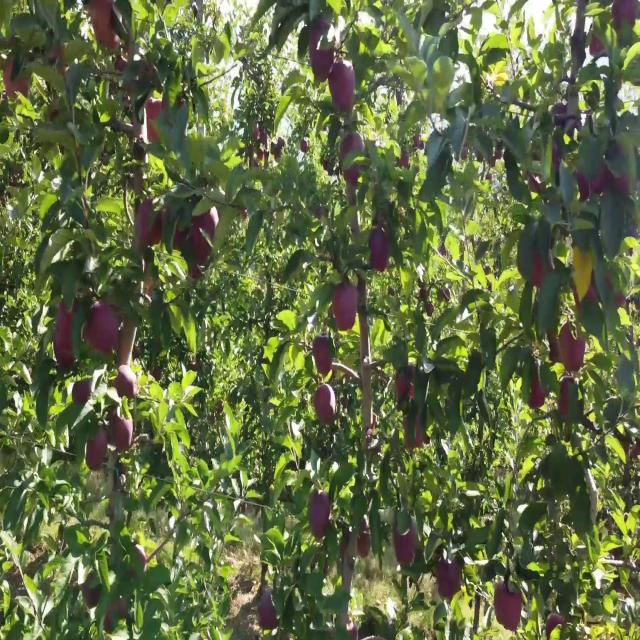apple: (52, 298, 79, 372), (524, 142, 561, 196), (56, 298, 81, 370), (308, 21, 336, 85), (88, 1, 123, 48), (88, 305, 118, 357), (136, 199, 167, 249), (328, 63, 356, 114), (496, 583, 524, 633), (332, 284, 359, 334), (96, 7, 126, 52), (340, 135, 365, 188), (192, 213, 218, 263), (560, 327, 587, 375), (308, 490, 332, 540), (4, 56, 30, 101), (436, 561, 463, 603), (368, 227, 391, 276), (108, 412, 134, 455), (576, 170, 608, 201), (88, 426, 108, 475), (396, 526, 417, 569), (116, 319, 136, 364), (316, 383, 336, 427), (572, 248, 594, 288), (148, 99, 167, 144), (612, 0, 640, 30), (601, 277, 627, 309), (112, 369, 137, 402), (404, 419, 429, 452), (312, 341, 333, 377), (532, 255, 552, 292), (576, 284, 599, 316), (332, 305, 357, 334), (80, 575, 99, 612), (104, 604, 128, 633), (72, 376, 93, 409), (260, 597, 279, 633), (148, 99, 166, 135), (608, 170, 631, 197), (560, 376, 574, 420), (396, 376, 416, 405), (144, 263, 159, 300), (116, 49, 135, 75), (52, 49, 69, 78), (532, 376, 545, 412), (148, 99, 166, 124), (360, 526, 372, 562), (172, 227, 188, 252), (137, 63, 156, 84), (548, 618, 567, 638), (592, 35, 603, 57), (136, 547, 148, 567), (404, 369, 416, 388), (192, 263, 203, 283)
